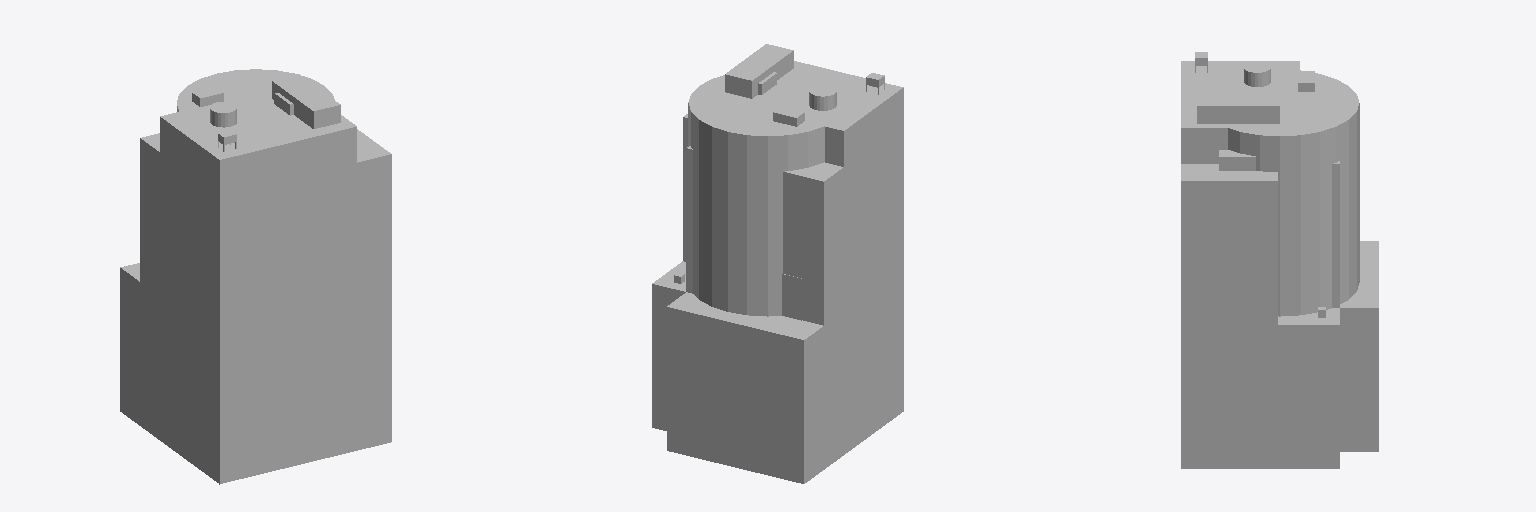
File: highrise-10.obj
3 renders of one model, left to right at view 1: azimuth 30°, elevation 25°; view 2: azimuth 150°, elevation 25°; view 3: azimuth 270°, elevation 25°, orthographic.
Visible parts, largest first — view 1: Mesh.189_SketchUp.008_ID2.005, Mesh.180_SketchUp_ID2.009, Mesh.170_SketchUp.026_ID2.001, Mesh.003_SketchUp_ID2, Mesh.179_SketchUp.021_ID2.003, Mesh.183_SketchUp.032_ID2.000, Mesh.184_SketchUp.037_ID2.013, Mesh.195_SketchUp.011_ID2.003, Mesh.165_SketchUp.001_ID10.009, Mesh.173_SketchUp.006_ID2.006, Mesh.156_SketchUp.004_ID2.007, Mesh.185_SketchUp.003_ID22.008; view 2: Mesh.179_SketchUp.021_ID2.003, Mesh.195_SketchUp.011_ID2.003, Mesh.180_SketchUp_ID2.009, Mesh.003_SketchUp_ID2, Mesh.189_SketchUp.008_ID2.005, Mesh.170_SketchUp.026_ID2.001, Mesh.165_SketchUp.001_ID10.009, Mesh.156_SketchUp.004_ID2.007, Mesh.185_SketchUp.003_ID22.008; view 3: Mesh.189_SketchUp.008_ID2.005, Mesh.195_SketchUp.011_ID2.003, Mesh.179_SketchUp.021_ID2.003, Mesh.180_SketchUp_ID2.009, Mesh.165_SketchUp.001_ID10.009, Mesh.160_SketchUp.009_ID10.005, Mesh.185_SketchUp.003_ID22.008, Mesh.003_SketchUp_ID2, Mesh.170_SketchUp.026_ID2.001.
Part boxes in pixels (bbox=[...]): Mesh.189_SketchUp.008_ID2.005: bbox=[140, 129, 391, 482]; Mesh.180_SketchUp_ID2.009: bbox=[160, 92, 356, 482]; Mesh.170_SketchUp.026_ID2.001: bbox=[140, 175, 356, 476]; Mesh.003_SketchUp_ID2: bbox=[140, 133, 356, 483]; Mesh.179_SketchUp.021_ID2.003: bbox=[120, 263, 355, 482]; Mesh.183_SketchUp.032_ID2.000: bbox=[140, 312, 339, 483]; Mesh.184_SketchUp.037_ID2.013: bbox=[140, 387, 322, 483]; Mesh.195_SketchUp.011_ID2.003: bbox=[177, 69, 334, 128]; Mesh.165_SketchUp.001_ID10.009: bbox=[272, 74, 340, 128]; Mesh.173_SketchUp.006_ID2.006: bbox=[140, 235, 356, 475]; Mesh.156_SketchUp.004_ID2.007: bbox=[140, 223, 179, 430]; Mesh.185_SketchUp.003_ID22.008: bbox=[210, 102, 236, 127]; Mesh.179_SketchUp.021_ID2.003: bbox=[667, 274, 902, 483]; Mesh.195_SketchUp.011_ID2.003: bbox=[688, 71, 833, 316]; Mesh.180_SketchUp_ID2.009: bbox=[706, 61, 903, 453]; Mesh.003_SketchUp_ID2: bbox=[686, 124, 903, 449]; Mesh.189_SketchUp.008_ID2.005: bbox=[652, 114, 903, 445]; Mesh.170_SketchUp.026_ID2.001: bbox=[686, 162, 903, 460]; Mesh.165_SketchUp.001_ID10.009: bbox=[725, 44, 793, 98]; Mesh.156_SketchUp.004_ID2.007: bbox=[783, 244, 838, 453]; Mesh.185_SketchUp.003_ID22.008: bbox=[809, 85, 836, 110]; Mesh.189_SketchUp.008_ID2.005: bbox=[1181, 164, 1339, 468]; Mesh.195_SketchUp.011_ID2.003: bbox=[1228, 69, 1359, 316]; Mesh.179_SketchUp.021_ID2.003: bbox=[1340, 241, 1378, 451]; Mesh.180_SketchUp_ID2.009: bbox=[1181, 61, 1299, 163]; Mesh.165_SketchUp.001_ID10.009: bbox=[1197, 93, 1279, 123]; Mesh.160_SketchUp.009_ID10.005: bbox=[1219, 150, 1255, 170]; Mesh.185_SketchUp.003_ID22.008: bbox=[1244, 61, 1270, 86]; Mesh.003_SketchUp_ID2: bbox=[1332, 161, 1339, 307]; Mesh.170_SketchUp.026_ID2.001: bbox=[1332, 200, 1339, 307].
Size of the model in its own units: 985 by 1871 by 985.